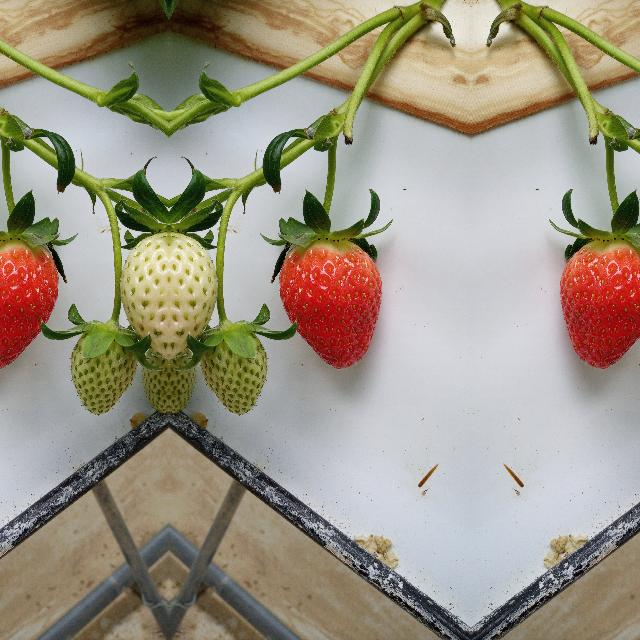Health_100: (278, 238, 382, 369), (559, 238, 640, 369), (0, 238, 58, 369)
Health_25: (170, 236, 216, 370), (120, 236, 166, 370), (202, 326, 266, 419), (70, 326, 134, 419)
